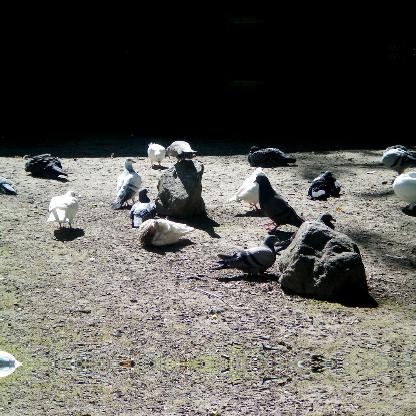Bird: (216, 233, 282, 283), (252, 174, 306, 232), (138, 216, 195, 245), (230, 168, 266, 212), (111, 158, 141, 209), (44, 188, 80, 226), (129, 186, 157, 228), (23, 152, 67, 178), (382, 143, 414, 175), (307, 169, 341, 199), (248, 146, 294, 168), (166, 138, 198, 166), (392, 171, 414, 211), (145, 142, 167, 170), (0, 176, 18, 193), (317, 216, 337, 230)
